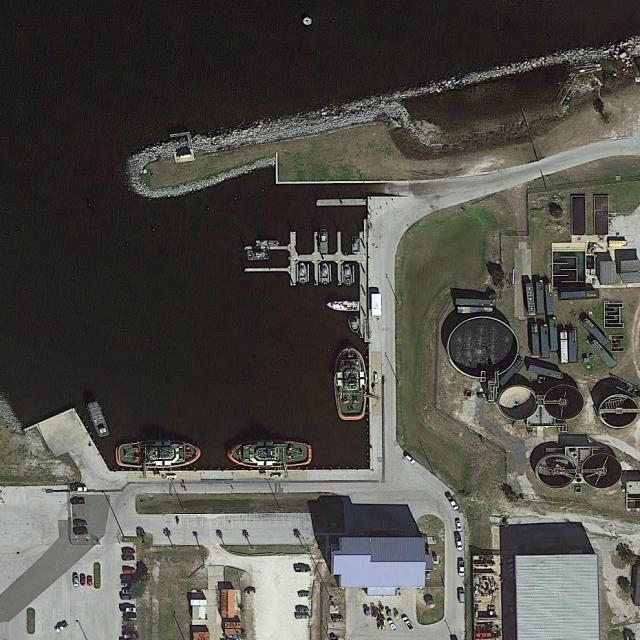Hovercraft: (115, 438, 201, 471), (334, 344, 368, 423), (226, 438, 312, 469)
Other Warship: (86, 398, 111, 439), (326, 300, 361, 312), (319, 229, 329, 253), (247, 250, 270, 260), (348, 316, 359, 334), (299, 264, 308, 286), (344, 265, 353, 287), (321, 264, 330, 285), (256, 239, 279, 246), (352, 236, 360, 254)
